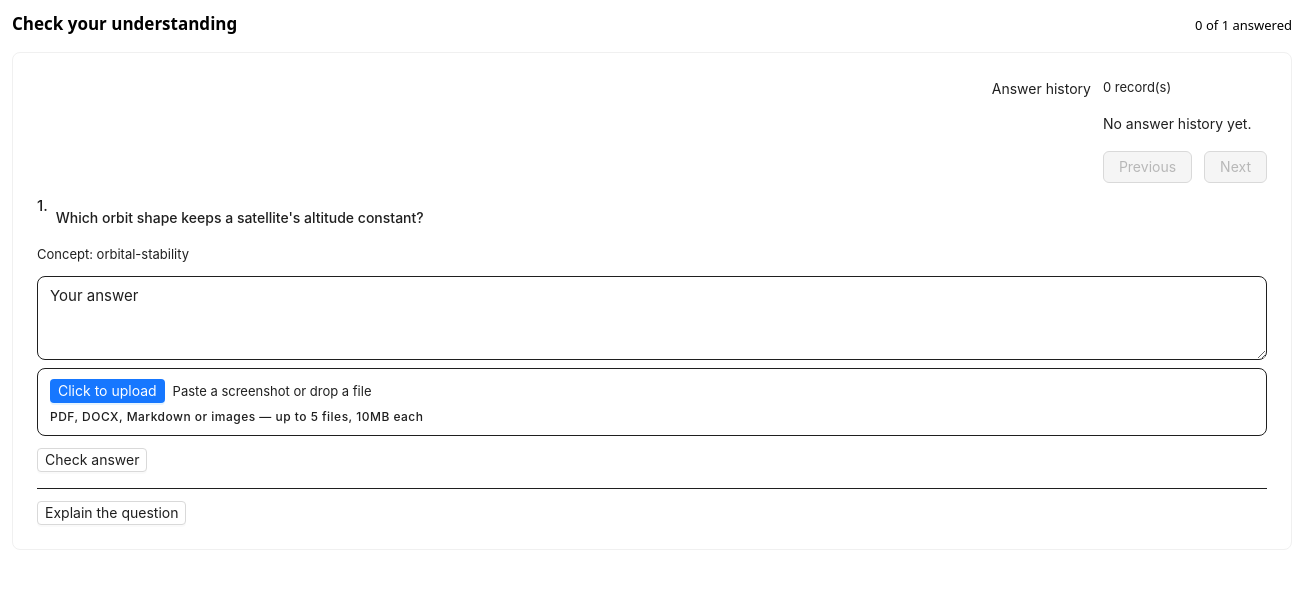
Test: empty-answer validation message › is exposed as an alert, so it is announced
This screenshot has width=1304, height=599.
Click the button "Check answer".
click(92, 460)  # box x1=37 y1=448 x2=148 y2=472
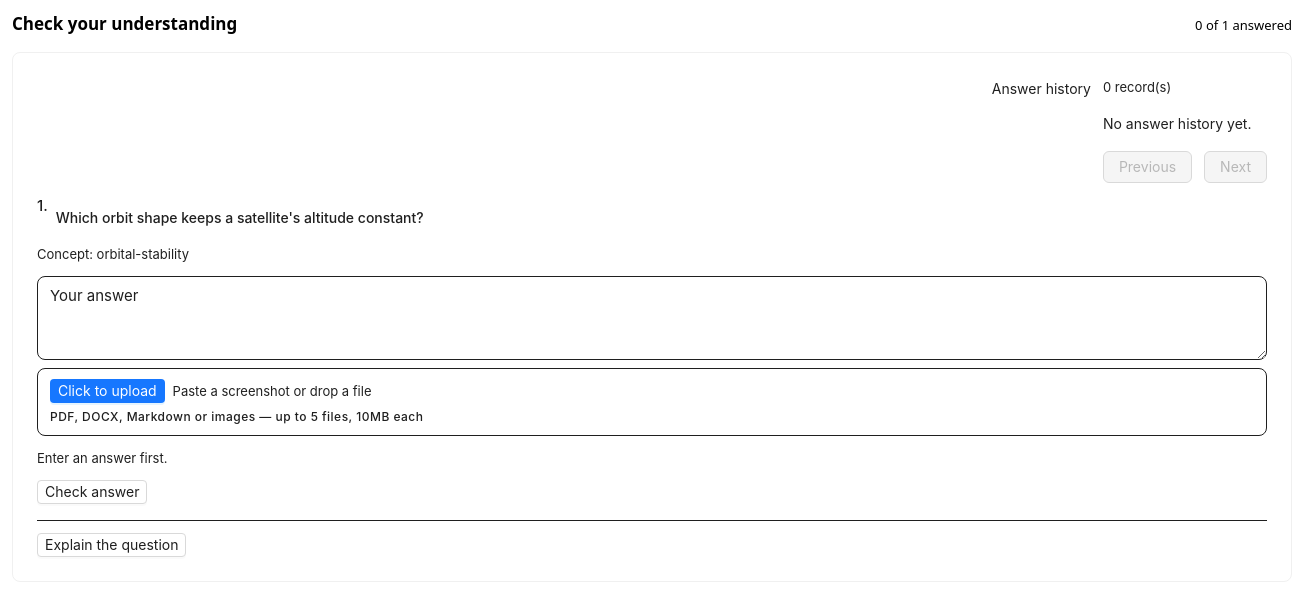
Check: the message reads "Enter an answer first.", box x1=37 y1=450 x2=168 y2=466
